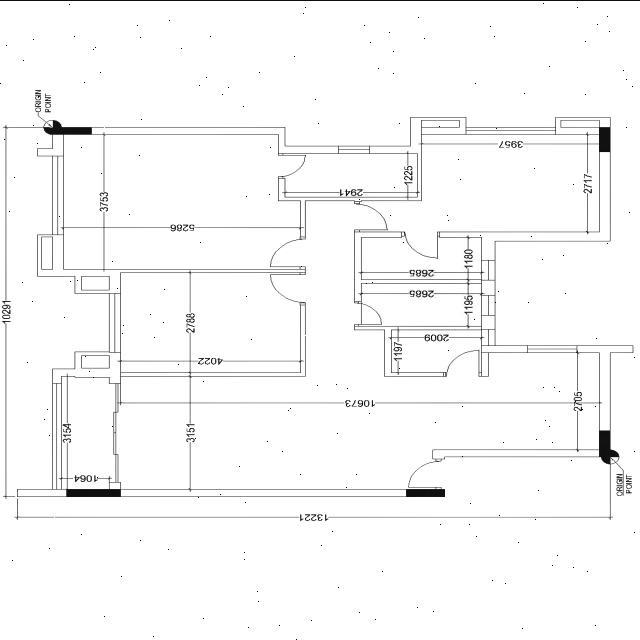Column: (66, 488, 120, 496), (49, 126, 92, 134), (406, 488, 445, 496), (598, 430, 610, 456), (598, 126, 610, 151)
Door: (270, 272, 306, 304), (270, 236, 306, 268), (407, 458, 445, 488), (354, 200, 388, 232), (444, 348, 482, 376), (402, 231, 439, 258), (278, 152, 306, 178), (354, 302, 382, 326)
Sliding Door: (114, 382, 120, 482)
Window: (52, 154, 64, 234), (109, 292, 121, 352), (466, 126, 556, 134), (528, 344, 578, 352), (482, 259, 496, 279), (482, 294, 496, 314), (338, 145, 370, 153), (482, 328, 496, 344)
